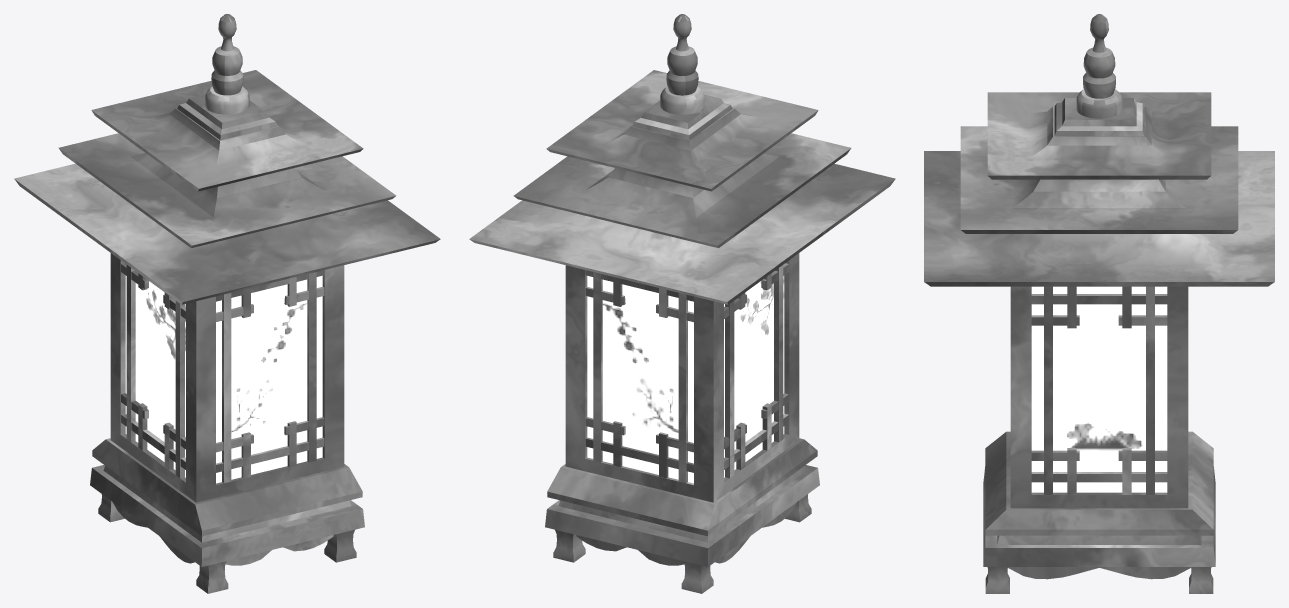
The model's file is SM_Lamp_small.fbx.
3 renders of one model, left to right at view 1: azimuth 30°, elevation 25°; view 2: azimuth 150°, elevation 25°; view 3: azimuth 270°, elevation 25°, orthographic. The views are drawn at different scales.
Visible parts, largest first — view 1: SM_Lamp_small; view 2: SM_Lamp_small; view 3: SM_Lamp_small.
Boxes of the visible parts, bbox=[...] form: SM_Lamp_small: bbox=[14, 14, 440, 593]; SM_Lamp_small: bbox=[469, 14, 895, 593]; SM_Lamp_small: bbox=[924, 14, 1274, 593].
Size of the model in its own units: 19.86 by 22.49 by 38.32.
Materials: 1 (1 with a texture image).
